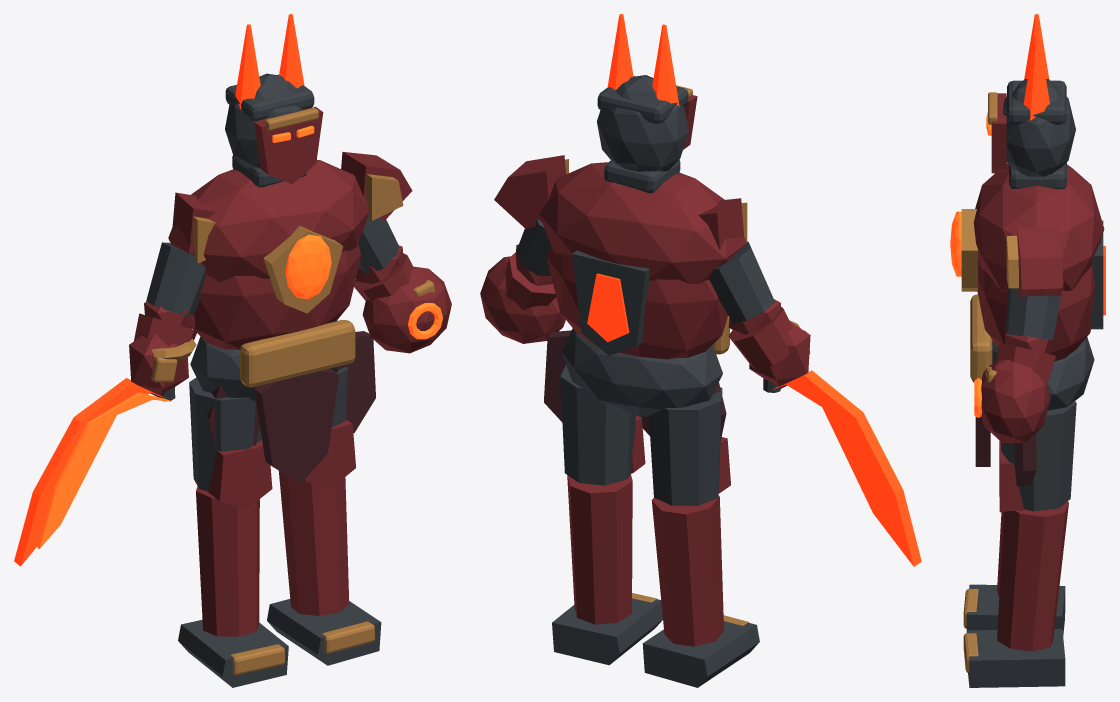
The model's file is chichuan_proxy_desktop_v002.glb.
The picture shows the model from 3 angles, left to right: view 1: azimuth 30°, elevation 25°; view 2: azimuth 150°, elevation 25°; view 3: azimuth 270°, elevation 25°; orthographic projection. The views are drawn at different scales.
Parts seen in each view (by area): view 1: body_upper_chest, lower_leg_armor.001, lower_leg_armor, body_torso_integrated, waist_cloth_front, waist_front_armor, thick_leg_armor, heavy_gauntlet, primary_fire_blade, grounded_boot.001, grounded_boot, blade_inner_hot_edge (+25 smaller); view 2: body_upper_chest, lower_leg_armor, lower_leg_armor.001, body_pelvis_integrated, body_torso_integrated, thick_leg_armor, primary_fire_blade, thick_leg_armor.001, head_angular_helm, grounded_boot, grounded_boot.001, back_spine_plate (+15 smaller); view 3: body_upper_chest, lower_leg_armor.001, heavy_gauntlet, grounded_boot.001, thick_leg_armor.001, body_torso_integrated, head_angular_helm, shoulder_embedded.001, upper_arm_integrated.001, body_pelvis_integrated, grounded_boot, waist_front_armor (+19 smaller).
Part boxes in pixels (<box>): body_upper_chest: <box>168,160,369,281</box>; lower_leg_armor.001: <box>279,471,349,615</box>; lower_leg_armor: <box>196,486,259,636</box>; body_torso_integrated: <box>193,244,360,349</box>; waist_cloth_front: <box>254,369,339,483</box>; waist_front_armor: <box>240,320,355,387</box>; thick_leg_armor: <box>189,377,261,491</box>; heavy_gauntlet: <box>362,266,451,353</box>; primary_fire_blade: <box>14,378,164,566</box>; grounded_boot.001: <box>267,599,381,665</box>; grounded_boot: <box>178,619,288,687</box>; blade_inner_hot_edge: <box>37,392,171,549</box>; body_upper_chest: <box>539,162,746,283</box>; lower_leg_armor: <box>651,495,723,646</box>; lower_leg_armor.001: <box>567,474,632,624</box>; body_pelvis_integrated: <box>561,328,722,416</box>; body_torso_integrated: <box>547,246,728,359</box>; thick_leg_armor: <box>649,387,722,505</box>; primary_fire_blade: <box>772,370,921,566</box>; thick_leg_armor.001: <box>560,365,635,485</box>; head_angular_helm: <box>597,75,688,171</box>; grounded_boot: <box>642,621,759,687</box>; grounded_boot.001: <box>552,598,662,665</box>; back_spine_plate: <box>572,250,649,355</box>; body_upper_chest: <box>973,163,1104,291</box>; lower_leg_armor.001: <box>997,501,1068,651</box>; heavy_gauntlet: <box>981,359,1050,442</box>; grounded_boot.001: <box>966,629,1065,687</box>; thick_leg_armor.001: <box>1001,401,1076,511</box>; body_torso_integrated: <box>977,259,1094,361</box>; head_angular_helm: <box>1003,79,1075,176</box>; shoulder_embedded.001: <box>1017,226,1063,297</box>; upper_arm_integrated.001: <box>1005,279,1063,339</box>; body_pelvis_integrated: <box>992,337,1094,410</box>; grounded_boot: <box>966,584,1065,635</box>; waist_front_armor: <box>970,294,992,382</box>.
Size of the model in its own units: 8.52 by 11.98 by 2.69.
